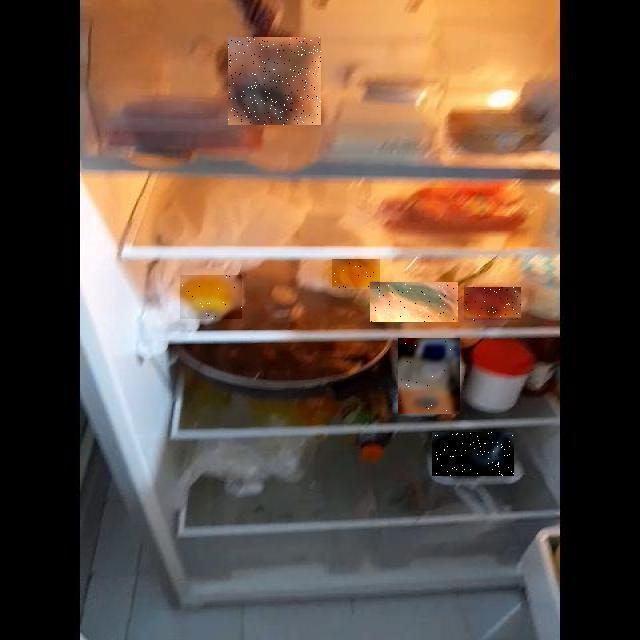Bread: (228, 37, 321, 125)
Broccoli: (432, 432, 514, 476)
Chillies: (370, 282, 458, 322)
Lemon: (180, 275, 242, 319), (333, 259, 381, 289)
Milk: (398, 338, 460, 414)
Tomato Paste: (464, 288, 521, 322)
